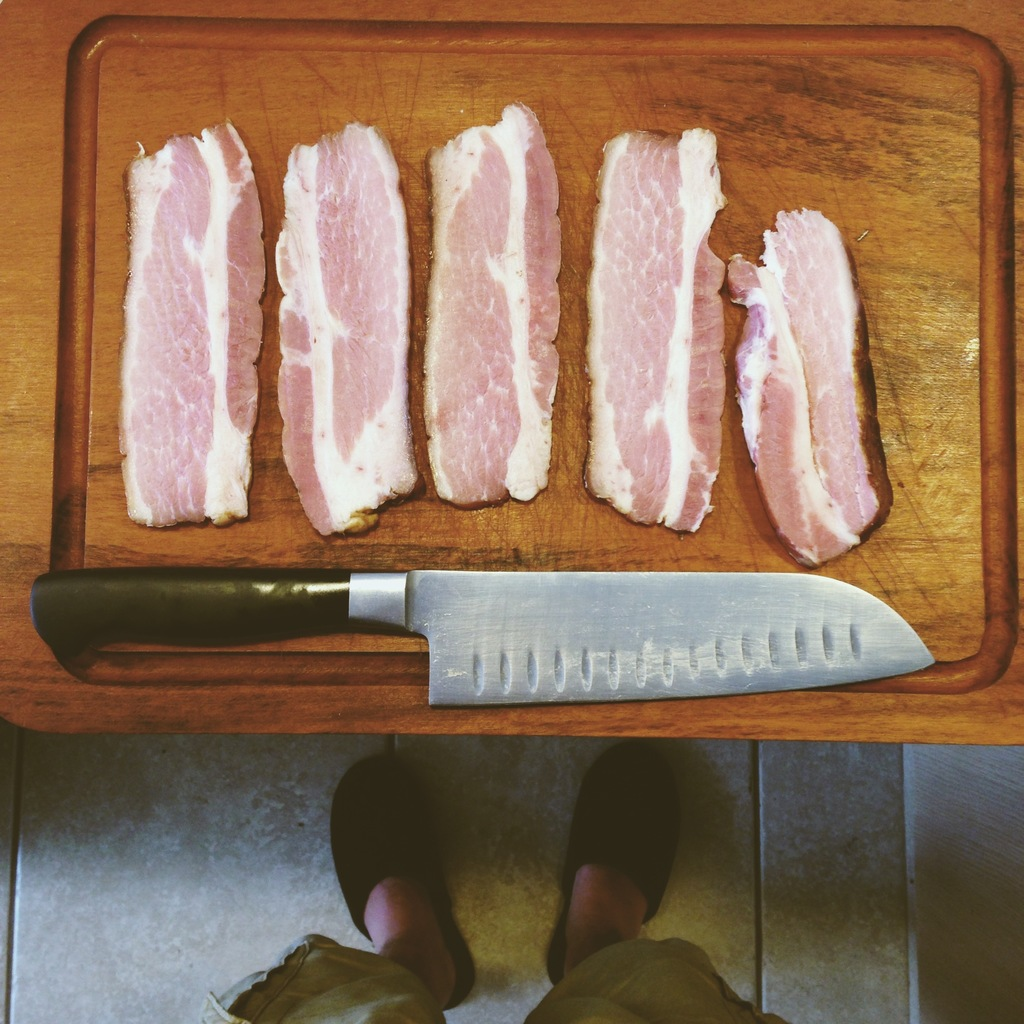kitchen knife: (23, 569, 932, 709)
